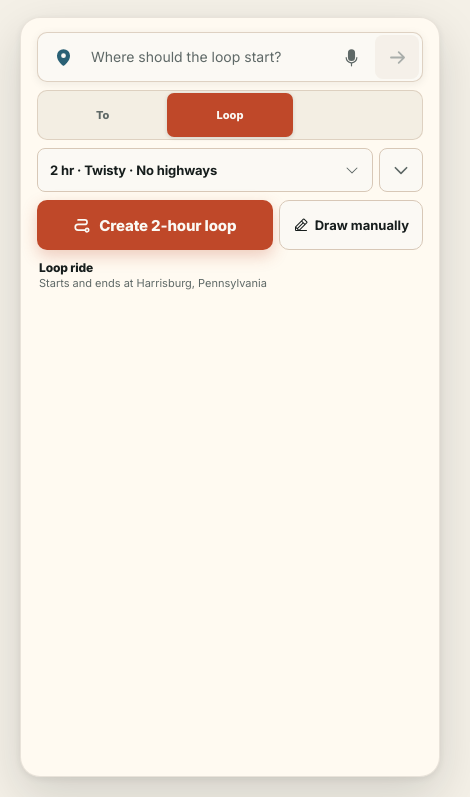
V2 progressive Ride options › restores the committed duration when a custom entry is left out of range
Click the button with aria-label "Ride options" at (205, 170), box [37,148,373,192]
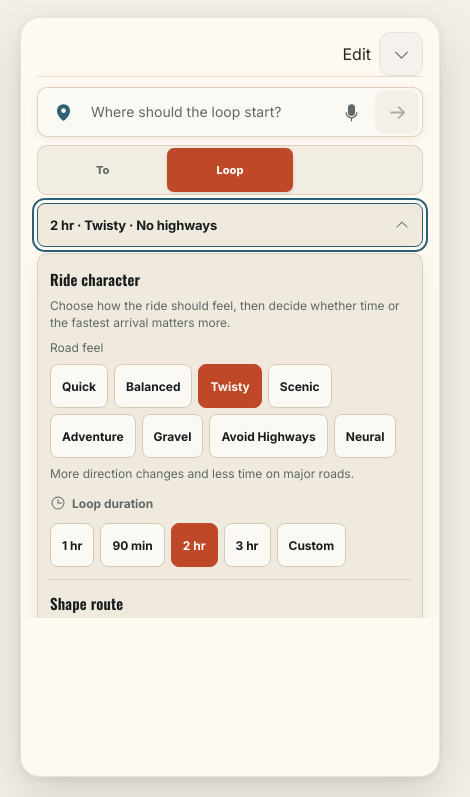
Click the button "Custom" at (311, 545), box [276,523,346,567]
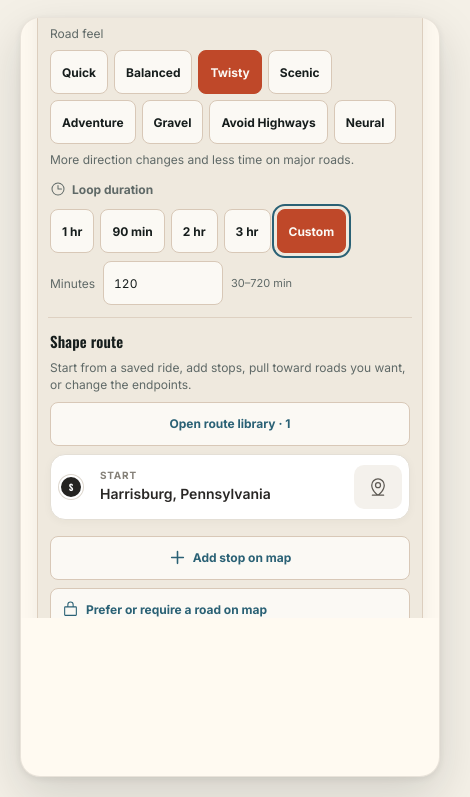
Replace the text in the number field named "Custom loop duration in minutes" with "5" at (163, 283), box [103,261,223,305]
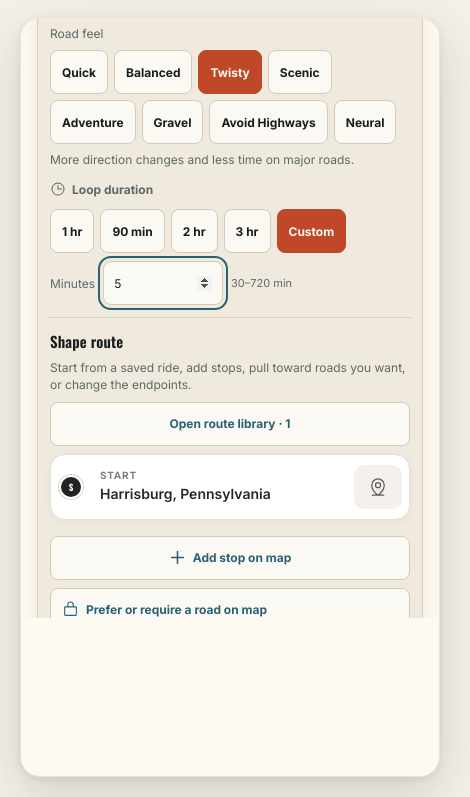
Press Tab
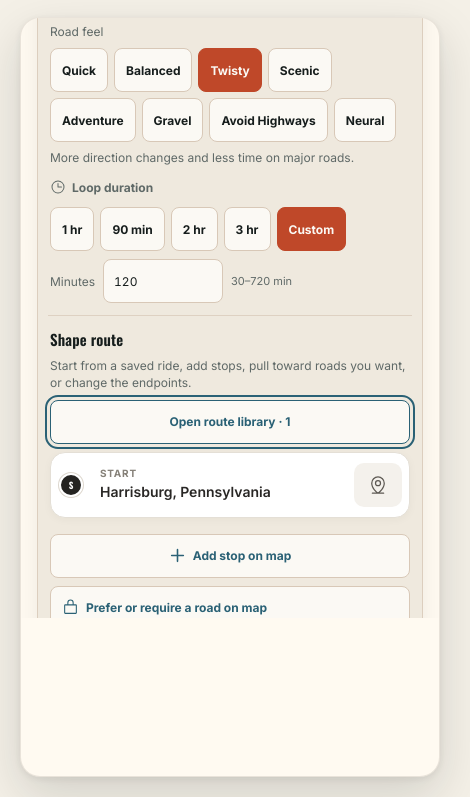
Expected: the number field named "Custom loop duration in minutes" holds "120", [103,259,223,303]
